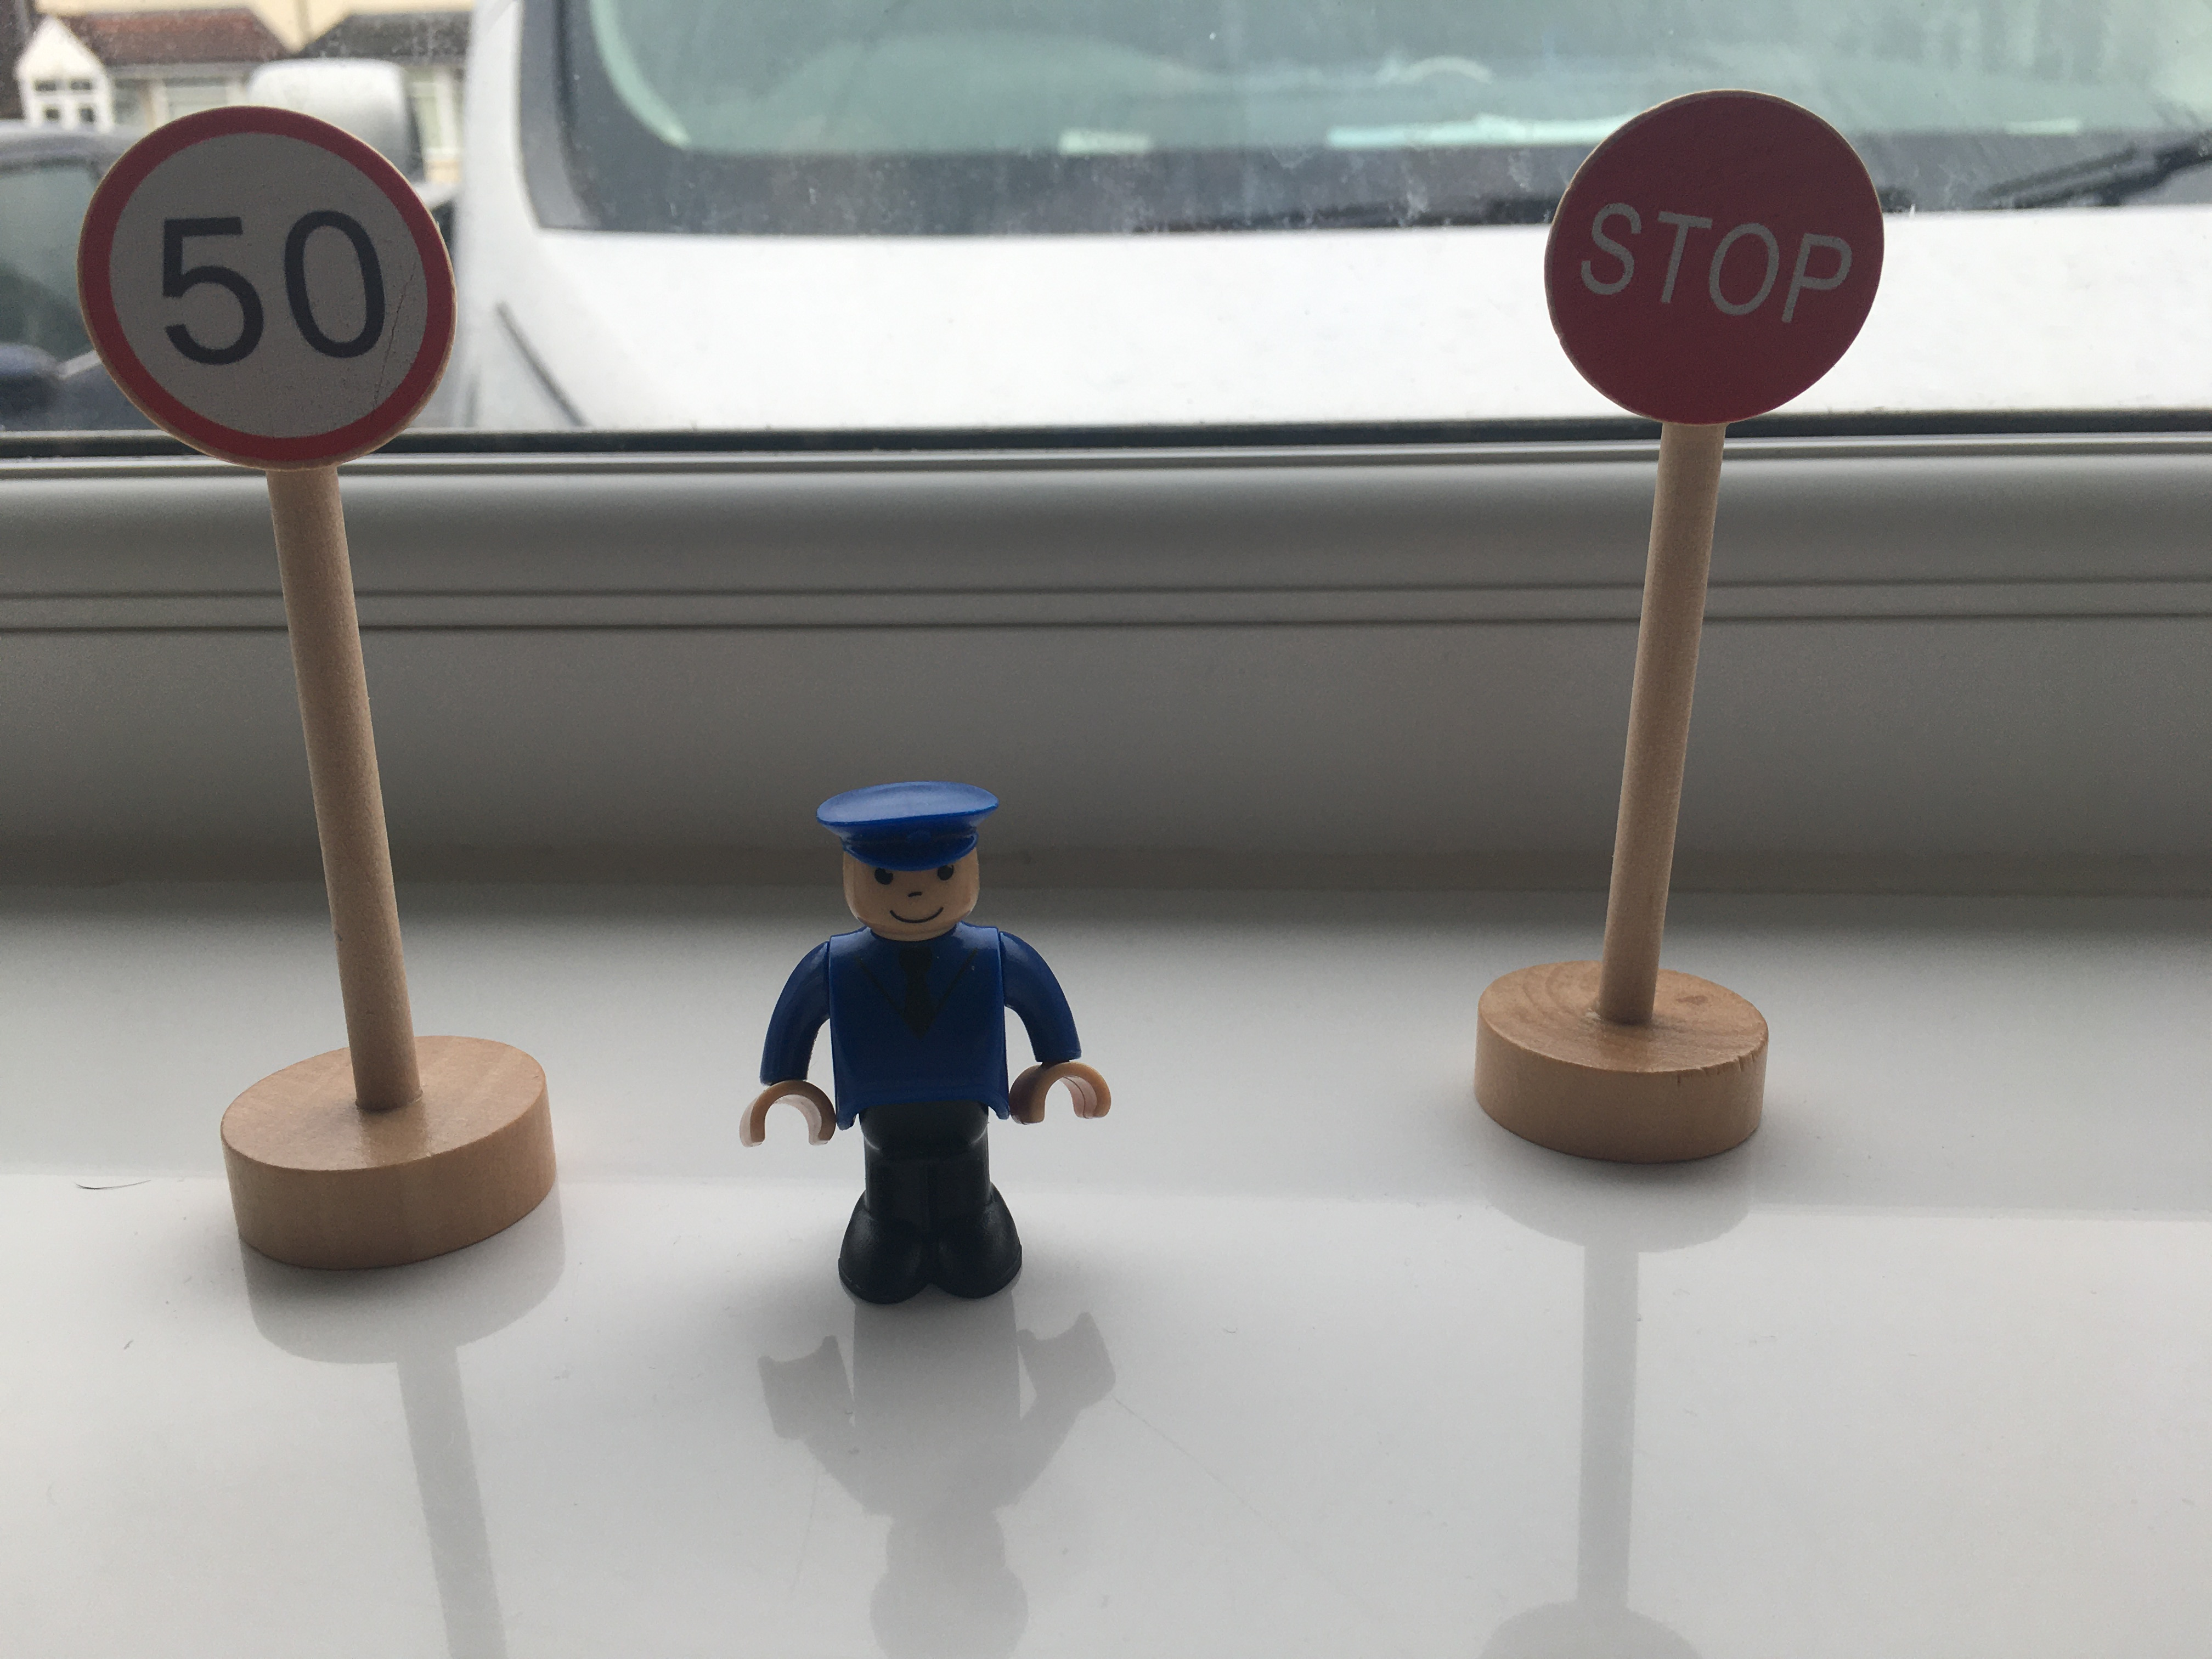Traffic_Sign_50: (74, 106, 469, 482)
Traffic_Sign_Stop: (1526, 94, 1897, 428)
person: (724, 761, 1125, 1332)
